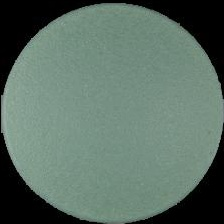54868-0823: (0, 0, 224, 224)
